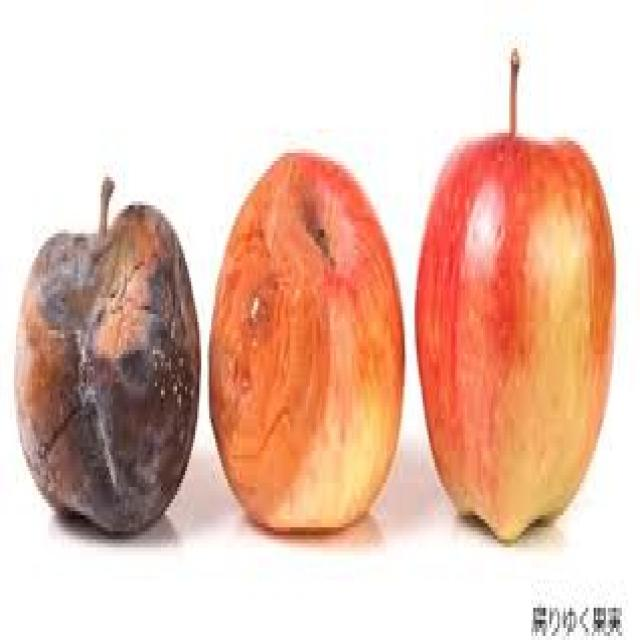organic waste: (414, 44, 614, 540), (205, 149, 407, 535), (12, 173, 197, 535)
